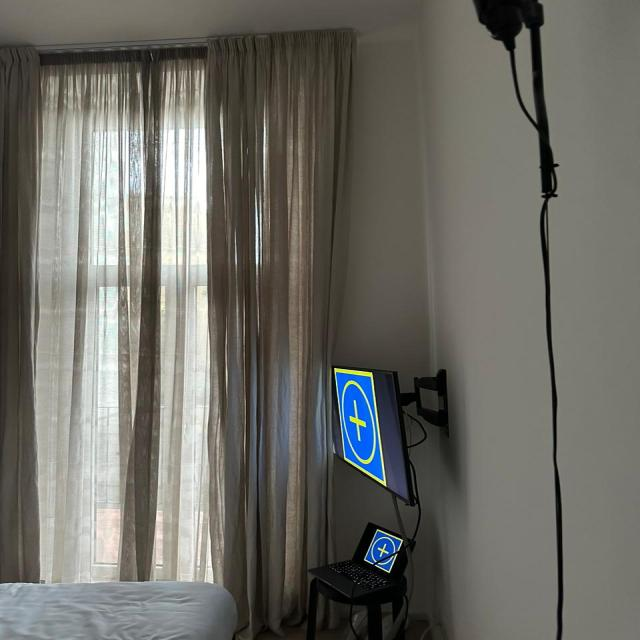Marker: (334, 368, 387, 487), (364, 528, 402, 574)
